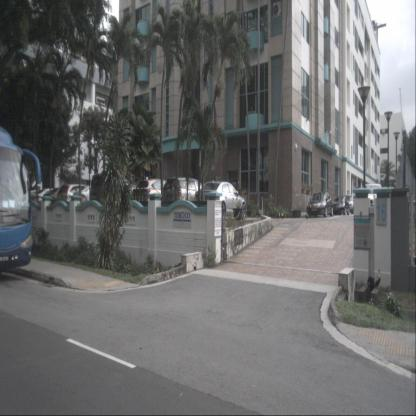vehicle-bus-rigid: (0, 126, 33, 274)
vehicle-car: (194, 180, 247, 221), (161, 177, 211, 216), (134, 178, 184, 213), (90, 174, 125, 214), (56, 184, 100, 214), (306, 192, 334, 218), (36, 188, 63, 213), (362, 184, 383, 216), (330, 196, 350, 216), (343, 194, 360, 215)
